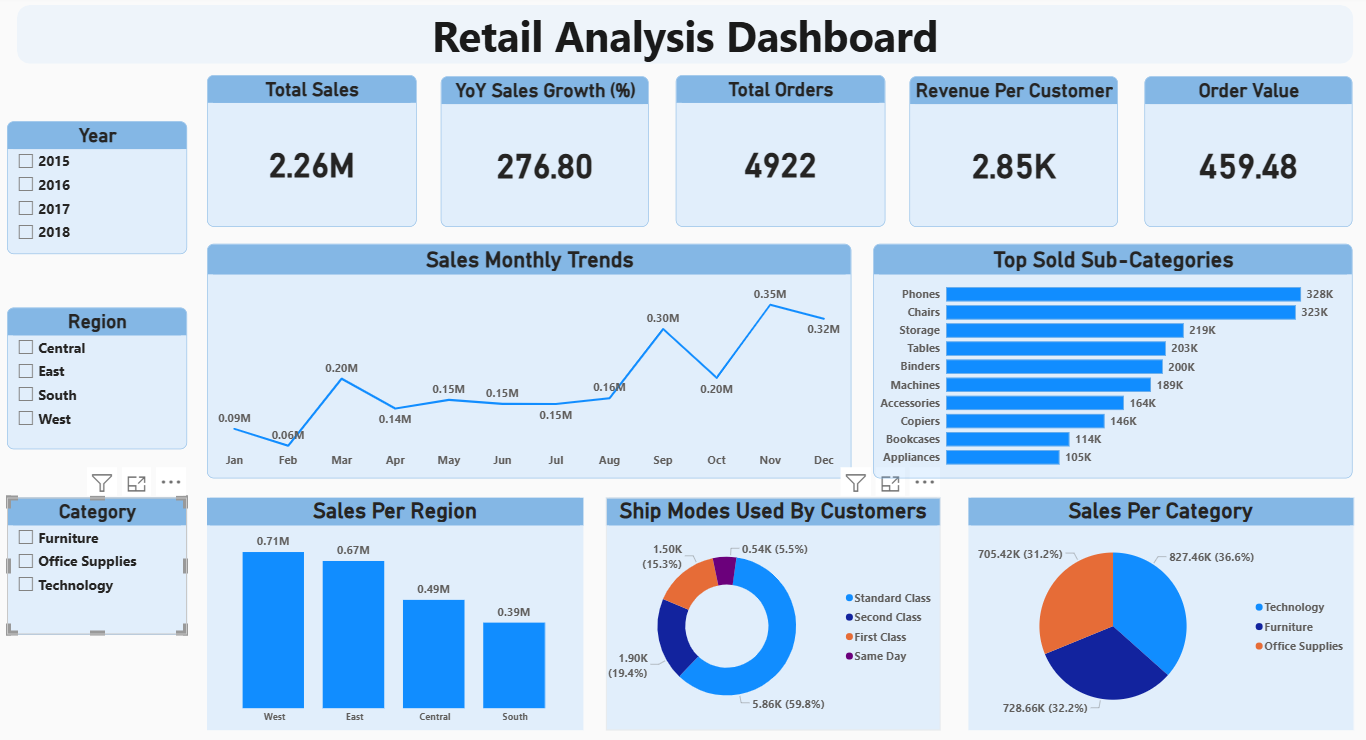

The page's visual inventory and layout, read from the dashboard file:
{"tool":"powerbi","page":{"name":"Page 1","canvas":[1980,1080],"ordinal":0},"visuals":[{"type":"card","title":"Total Sales","fields":{"Values":["train.Total_Sales"]},"box":[301.4,114.6,301.4,218.6],"z":0},{"type":"card","title":"Revenue Per Customer","fields":{"Values":["train.Customer Lifetime Value"]},"box":[1313.9,116.7,300,216.5],"z":1000},{"type":"card","title":"Order Value","fields":{"Values":["train.Average_Order_Value"]},"box":[1651.4,116.7,299.3,216.5],"z":2000},{"type":"card","title":"YoY Sales Growth (%)","fields":{"Values":["train.YoY Sales Growth (%)"]},"box":[638.9,116.7,299.3,216.5],"z":3000},{"type":"lineChart","title":"Sales Monthly Trends","fields":{"Y":["Sum(train.Sales)"],"Category":["train.Month3"]},"box":[301.4,358.7,927.6,337.5],"z":4000},{"type":"donutChart","title":"Ship Modes Used By Customers","fields":{"Category":["train.Ship Mode"],"Y":["CountNonNull(train.Customer ID)"]},"box":[876.7,723.8,481.8,335.4],"z":5000},{"type":"columnChart","title":"Sales Per Region","fields":{"Category":["train.Region"],"Y":["Sum(train.Sales)"]},"box":[301.4,723.8,541.3,335.4],"z":6000},{"type":"clusteredBarChart","title":"Top Sold Sub-Categories","fields":{"Y":["train.Top10 Sales"],"Category":["train.Sub-Category"]},"box":[1260.9,358.7,689.9,337.5],"z":7000},{"type":"pieChart","title":"Sales Per Category","fields":{"Category":["train.Category"],"Y":["Sum(train.Sales)"]},"box":[1396.7,723.8,554,335.4],"z":9000},{"type":"card","title":"Total Orders","fields":{"Values":["train.Total_Orders"]},"box":[976.4,114.6,301.4,218.6],"z":10000},{"type":"slicer","title":"Region","fields":{"Values":["train.Region"]},"box":[14.9,450,259,203.8],"z":12000},{"type":"slicer","title":"Category","fields":{"Values":["train.Category"]},"box":[14.9,723.8,259,197.4],"z":13000},{"type":"shape","box":[28.8,14.4,1922.8,84.5],"z":14000},{"type":"slicer","title":"Year","fields":{"Values":["train.Year"]},"box":[14.9,182.5,259,191],"z":14001}]}

Visuals, with their boxes in screenshot pixels (x1, y1, x2, y2), scaled from the page's 1980x1080 canvas onto the 1366x740 screenshot:
"Total Sales" card: crop(208, 79, 416, 228)
"Revenue Per Customer" card: crop(906, 80, 1113, 228)
"Order Value" card: crop(1139, 80, 1346, 228)
"YoY Sales Growth (%)" card: crop(441, 80, 647, 228)
"Sales Monthly Trends" lineChart: crop(208, 246, 848, 477)
"Ship Modes Used By Customers" donutChart: crop(605, 496, 937, 726)
"Sales Per Region" columnChart: crop(208, 496, 581, 726)
"Top Sold Sub-Categories" clusteredBarChart: crop(870, 246, 1346, 477)
"Sales Per Category" pieChart: crop(964, 496, 1346, 726)
"Total Orders" card: crop(674, 79, 882, 228)
"Region" slicer: crop(10, 308, 189, 448)
"Category" slicer: crop(10, 496, 189, 631)
shape: crop(20, 10, 1346, 68)
"Year" slicer: crop(10, 125, 189, 256)
